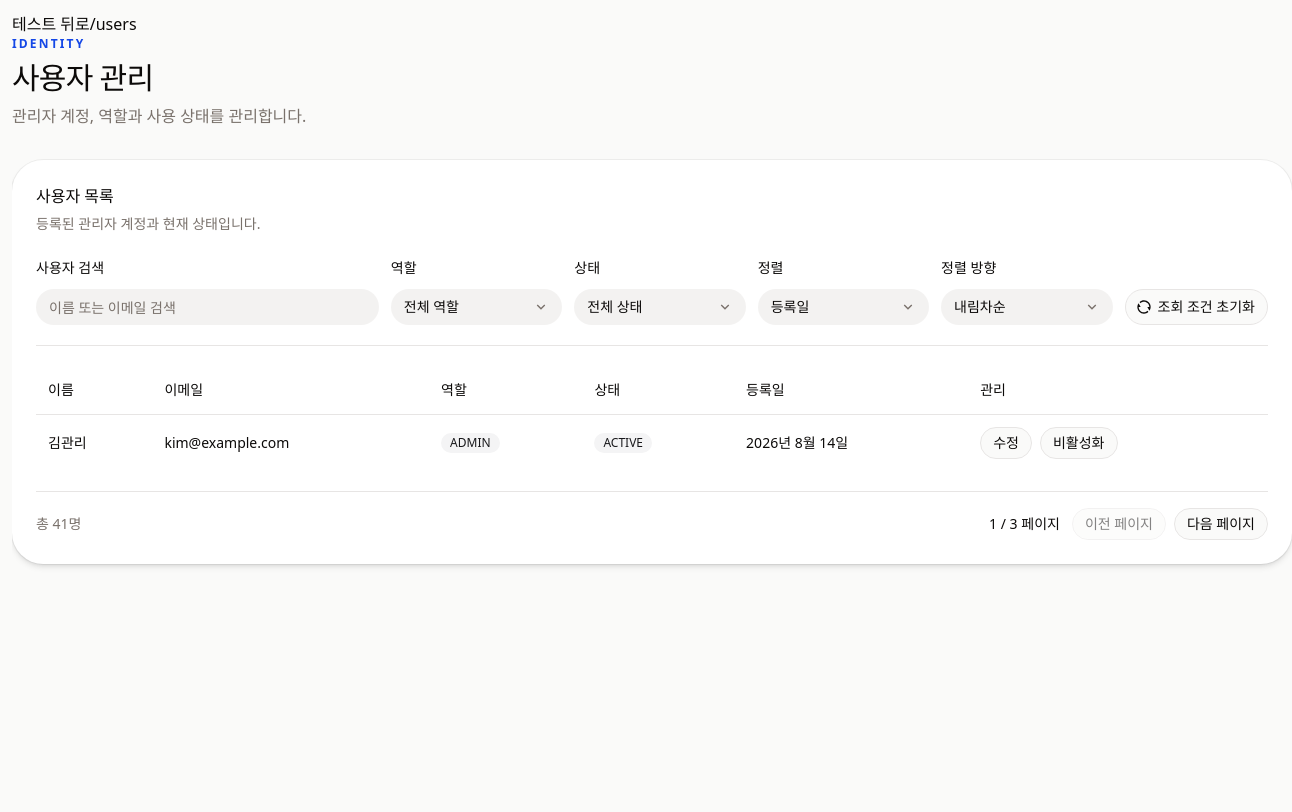
Test: 사용자 조회 결과 › 백그라운드 재조회 중에는 기존 결과와 접근 가능한 진행 상태를 유지한다
Click the dropdown labelled "역할" at (476, 307), box [391, 289, 562, 325]
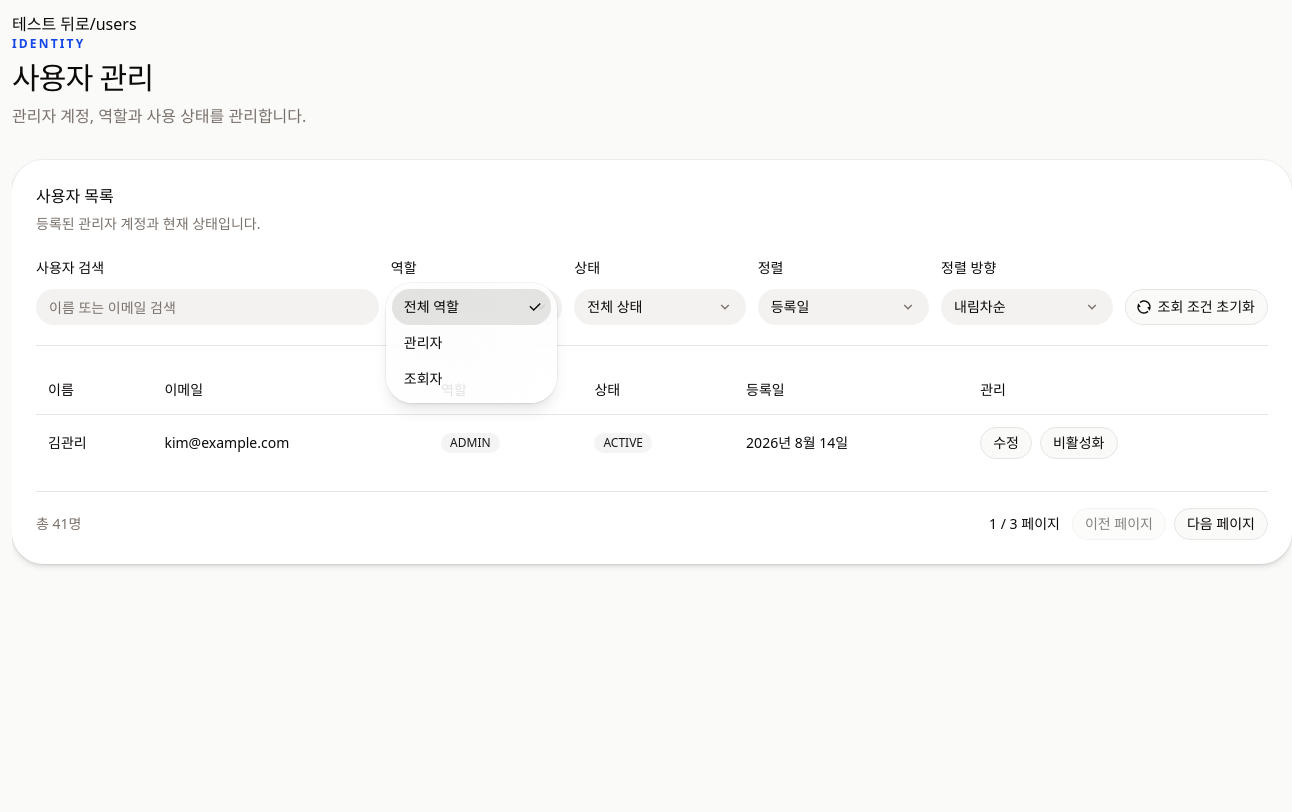
Click the option "조회자" at (423, 379), box [404, 369, 442, 388]
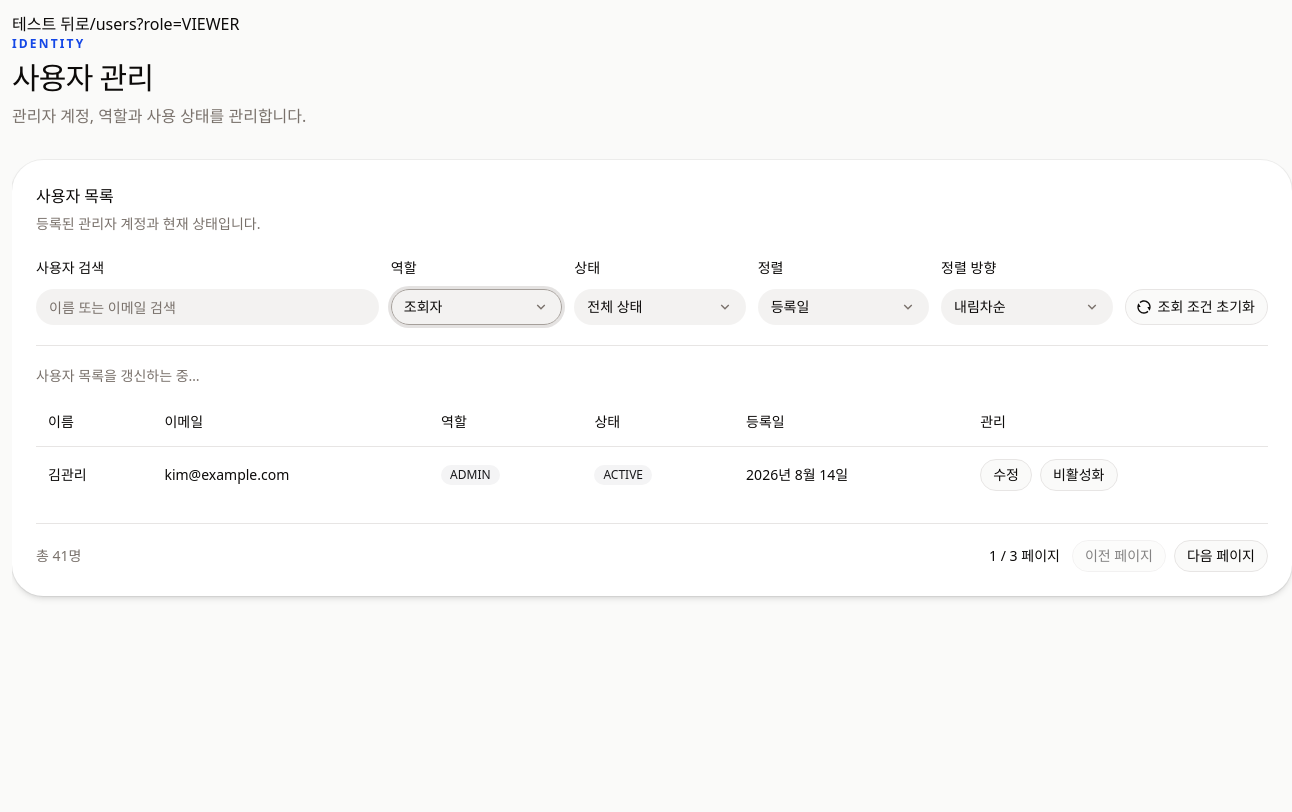
Check: the message "사용자 목록을 갱신하는 중…" is shown, box [36, 366, 200, 385]
